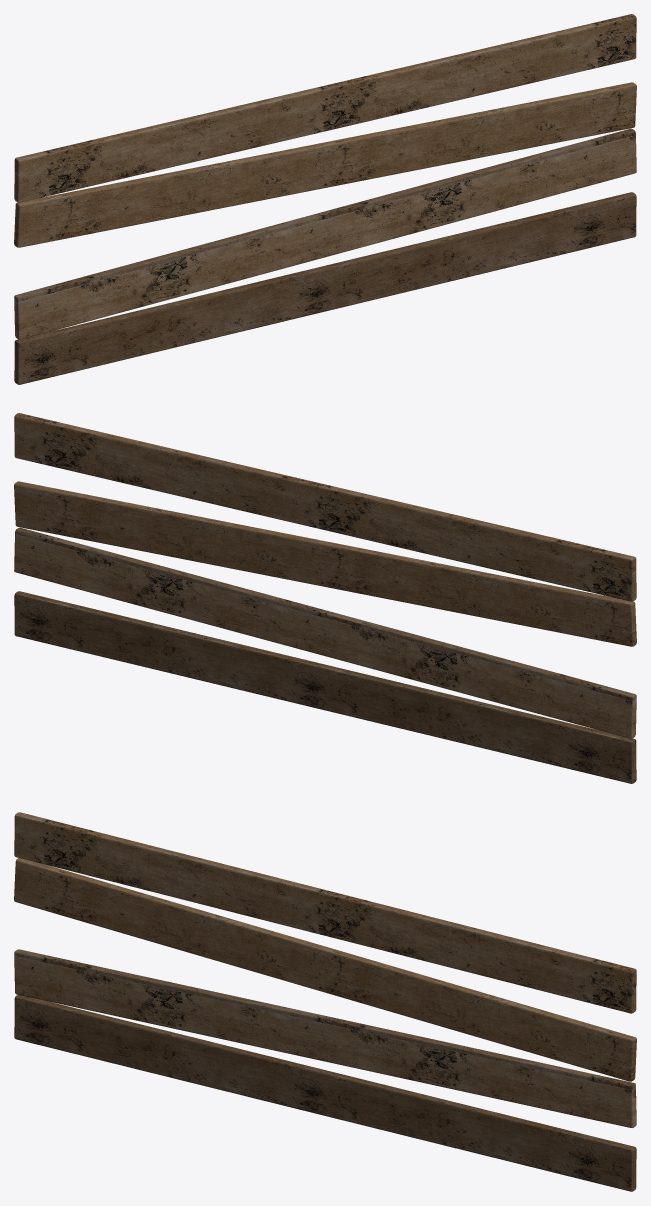
File: SM_Plank_Whole 1.fbx
3 renders of one model, top to bottom at view 1: azimuth 30°, elevation 25°; view 2: azimuth 150°, elevation 25°; view 3: azimuth 330°, elevation 25°, orthographic.
Parts seen in each view (by area): view 1: SM_Plank_Whole; view 2: SM_Plank_Whole; view 3: SM_Plank_Whole.
Boxes of the visible parts, <box> form: SM_Plank_Whole: <box>14,14,636,384</box>; SM_Plank_Whole: <box>14,413,636,783</box>; SM_Plank_Whole: <box>14,812,636,1191</box>.
Size of the model in its own units: 301 by 105 by 4.
1 material, 1 textured.
